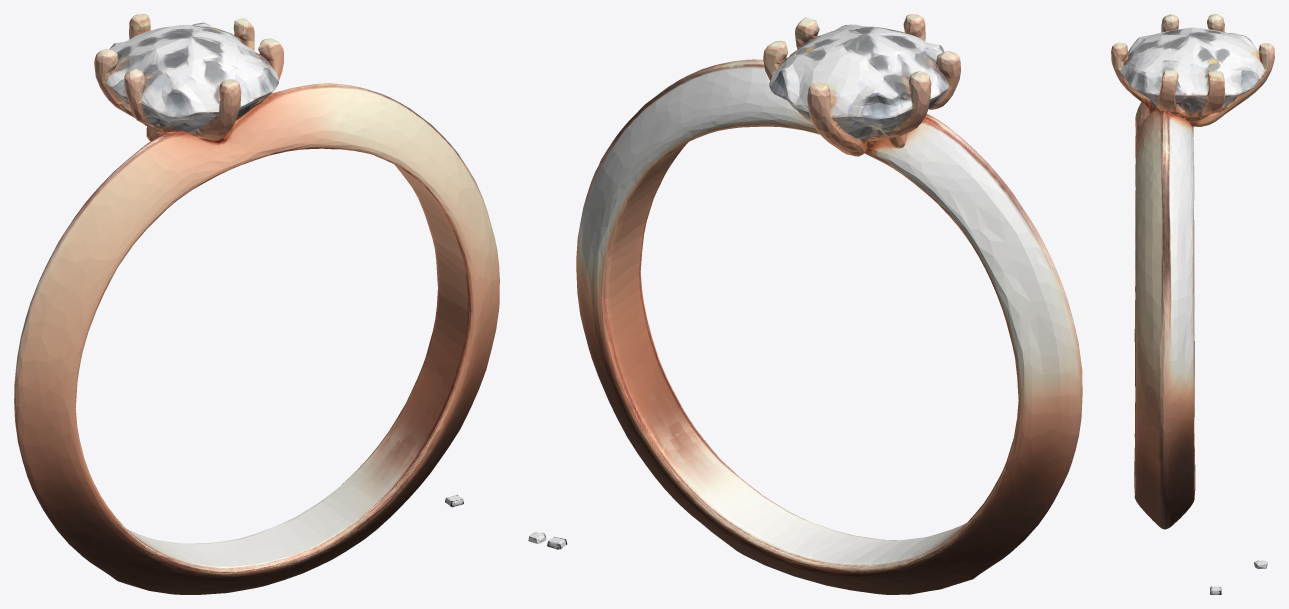
Rendered from jewelry_mesh.glb.
3 views of the same model, side by side, from view 1: azimuth 30°, elevation 25°; view 2: azimuth 150°, elevation 25°; view 3: azimuth 270°, elevation 25° (orthographic). The views are drawn at different scales.
Visible parts, largest first — view 1: world; view 2: world; view 3: world.
Part boxes in pixels (x1,y1,x2,y2): world: (14,14,499,594); world: (528,14,1082,594); world: (1111,14,1274,594).
Size of the model in its own units: 0.9268 by 1 by 0.3327.
1 material, 1 textured.
